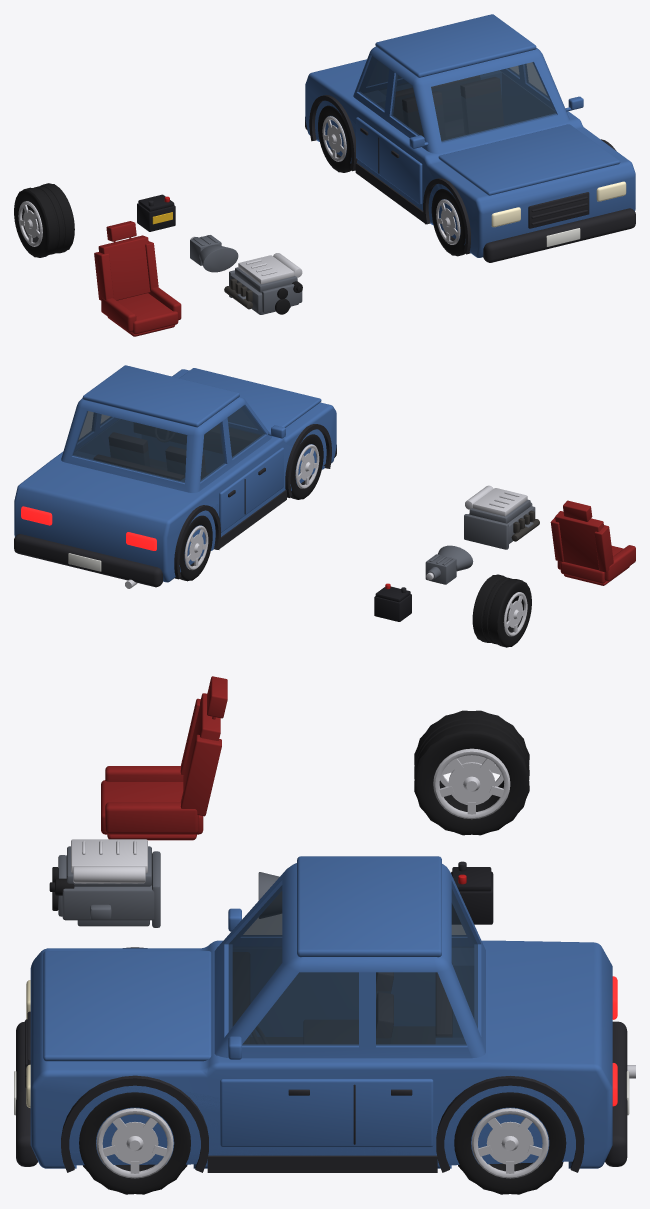
Rendered from Pack1.fbx.
3 views of the same model, one above another, from view 1: azimuth 30°, elevation 25°; view 2: azimuth 150°, elevation 25°; view 3: azimuth 270°, elevation 25° (orthographic). The views are drawn at different scales.
Visible parts, largest first — view 1: Sedan__Body, Sedan__Glass, Sedan__Cabin, Sedan__Panel_Hood, Sedan__Roof, Sedan__Interior, Seat__Back, Wheel__Tire, Sedan__BumperFront, Sedan__Panel_Right, Seat__Cushion, Sedan__ArchTrim (+12 smaller); view 2: Sedan__Body, Sedan__Glass, Sedan__Cabin, Sedan__Roof, Sedan__Interior, Sedan__Panel_Hood, Seat__Back, Wheel__Tire, Sedan__BumperRear, Sedan__Panel_Right, Sedan__ArchTrim, Engine__Block (+11 smaller); view 3: Sedan__Body, Sedan__Glass, Sedan__Panel_Hood, Sedan__Cabin, Sedan__Panel_Left, Sedan__Roof, Sedan__ArchTrim, Wheel__Tire, Seat__Cushion, Sedan__Interior, Engine__Block, Sedan__Wheel_RL (+10 smaller).
Part boxes in pixels (x1,y1,x2,y2): Sedan__Body: (305, 59, 635, 257); Sedan__Glass: (358, 56, 556, 141); Sedan__Cabin: (353, 46, 569, 153); Sedan__Panel_Hood: (438, 124, 620, 195); Sedan__Roof: (375, 14, 536, 77); Sedan__Interior: (393, 75, 503, 140); Seat__Back: (94, 221, 158, 300); Wheel__Tire: (14, 183, 74, 257); Sedan__BumperFront: (483, 208, 635, 262); Sedan__Panel_Right: (356, 117, 422, 204); Seat__Cushion: (101, 287, 181, 336); Sedan__ArchTrim: (309, 95, 616, 254); Sedan__Body: (14, 369, 336, 582); Sedan__Glass: (72, 405, 264, 482); Sedan__Cabin: (61, 396, 271, 492); Sedan__Roof: (82, 365, 239, 427); Sedan__Interior: (93, 423, 259, 480); Sedan__Panel_Hood: (179, 368, 321, 432); Seat__Back: (550, 500, 613, 572); Wheel__Tire: (472, 574, 531, 647); Sedan__BumperRear: (14, 534, 162, 587); Sedan__Panel_Right: (219, 447, 283, 532); Sedan__ArchTrim: (174, 424, 331, 579); Engine__Block: (464, 499, 535, 549); Sedan__Body: (30, 940, 612, 1168); Sedan__Glass: (228, 885, 477, 1045); Sedan__Panel_Hood: (43, 951, 211, 1061); Sedan__Cabin: (214, 863, 485, 1058); Sedan__Panel_Left: (220, 1078, 433, 1147); Sedan__Roof: (297, 856, 441, 957); Sedan__ArchTrim: (61, 947, 584, 1172); Wheel__Tire: (414, 710, 529, 835); Seat__Cushion: (101, 766, 203, 840); Sedan__Interior: (233, 952, 452, 1043); Engine__Block: (58, 846, 160, 927); Sedan__Wheel_RL: (454, 1092, 566, 1194).
Size of the model in its own units: 2203 by 593 by 1459.
